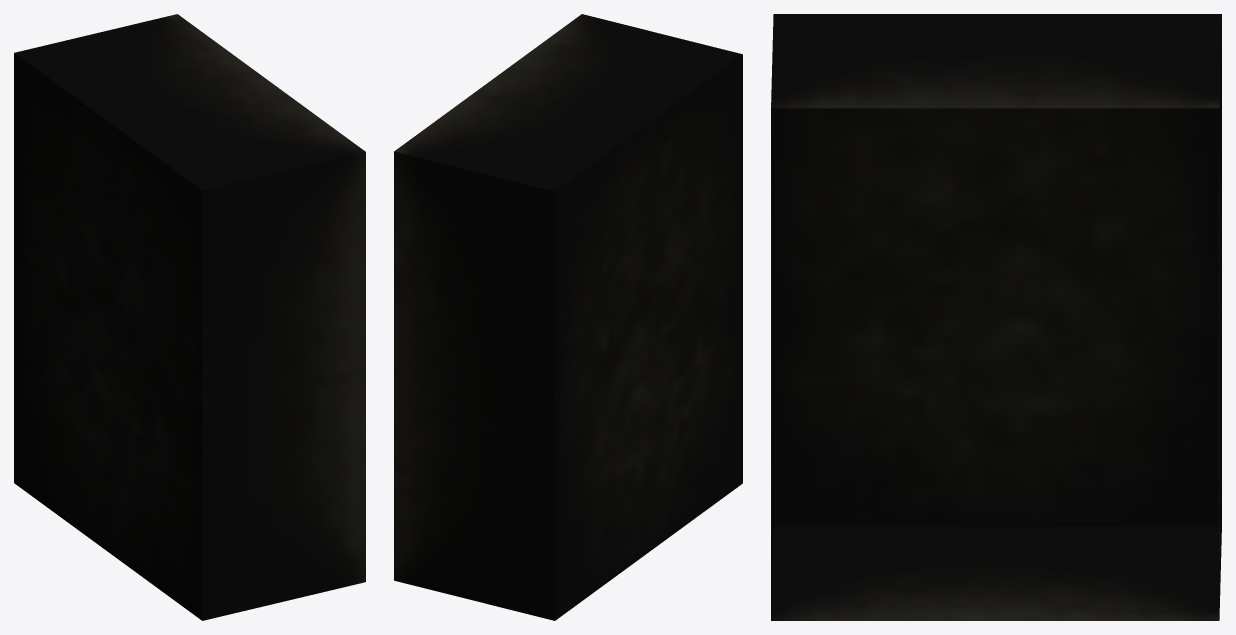
File: SingleWindow_Blind_01.FBX
3 views of the same model, side by side, from view 1: azimuth 30°, elevation 25°; view 2: azimuth 150°, elevation 25°; view 3: azimuth 270°, elevation 25° (orthographic). The views are drawn at different scales.
Parts seen in each view (by area): view 1: SingleWindow_Blind_01; view 2: SingleWindow_Blind_01; view 3: SingleWindow_Blind_01.
Boxes of the visible parts, x1,y1,x2,y2 form: SingleWindow_Blind_01: (14, 14, 365, 620); SingleWindow_Blind_01: (394, 14, 742, 620); SingleWindow_Blind_01: (771, 14, 1221, 620).
Bounding box in the file's own units: 68.11 × 173 × 138.
